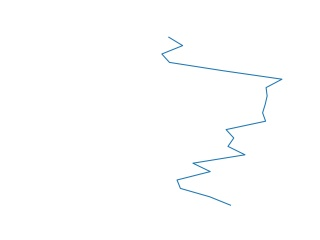floodPlain: (161, 34, 284, 208)
